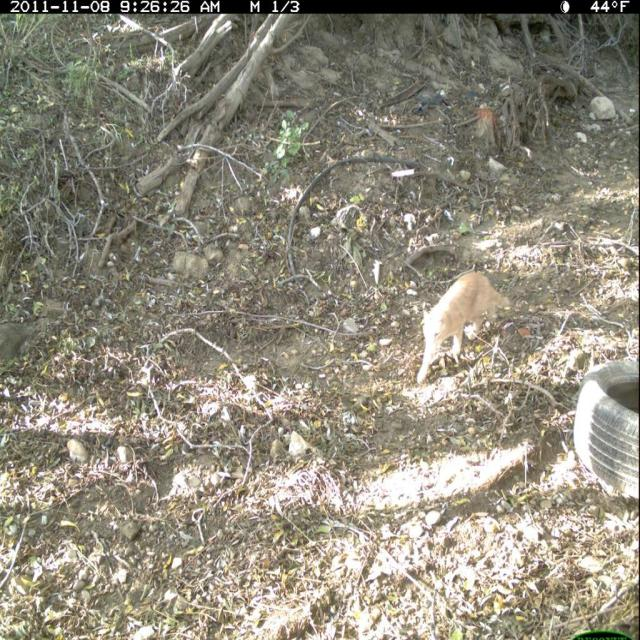cat: (416, 269, 514, 391)
